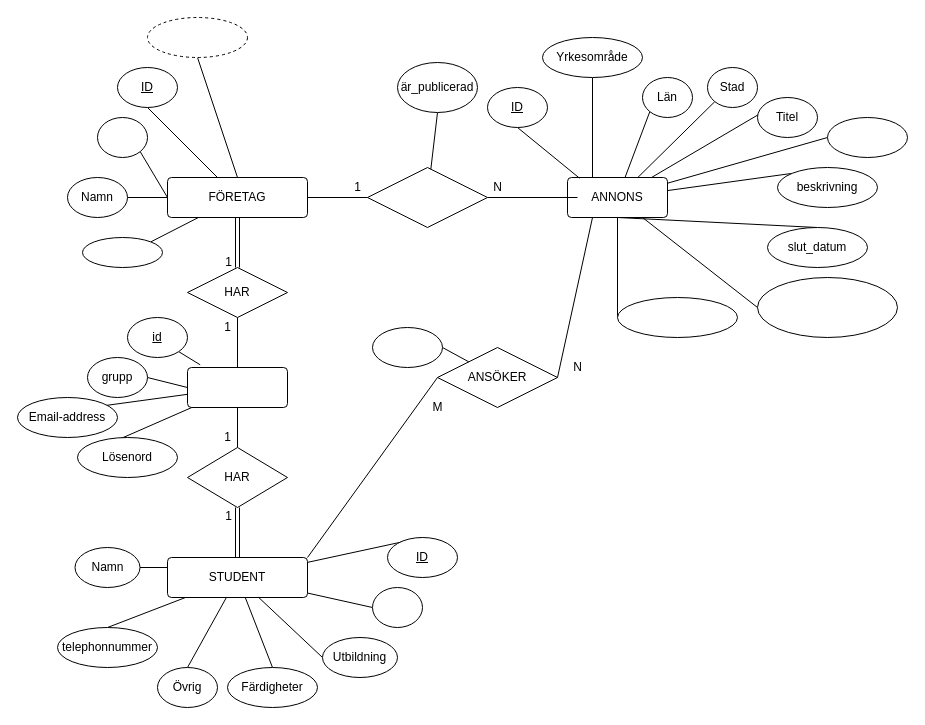
The diagram is 925 pixels wide and 725 high, and some of its shapes have lost their labels. Here are the shapes that lost their labels. From the top down, the centre of each, then its label:
the point at 197,37: ANSÖKNINGAR
the point at 122,137: logo
the point at 867,137: Kvalifikationer
the point at 427,197: SKAPA
the point at 122,252: Hemsida
the point at 677,317: Publicering_datum
the point at 827,307: Om anställning,varktikhet
the point at 407,347: Datum
the point at 237,387: KONTO
the point at 397,607: Om
